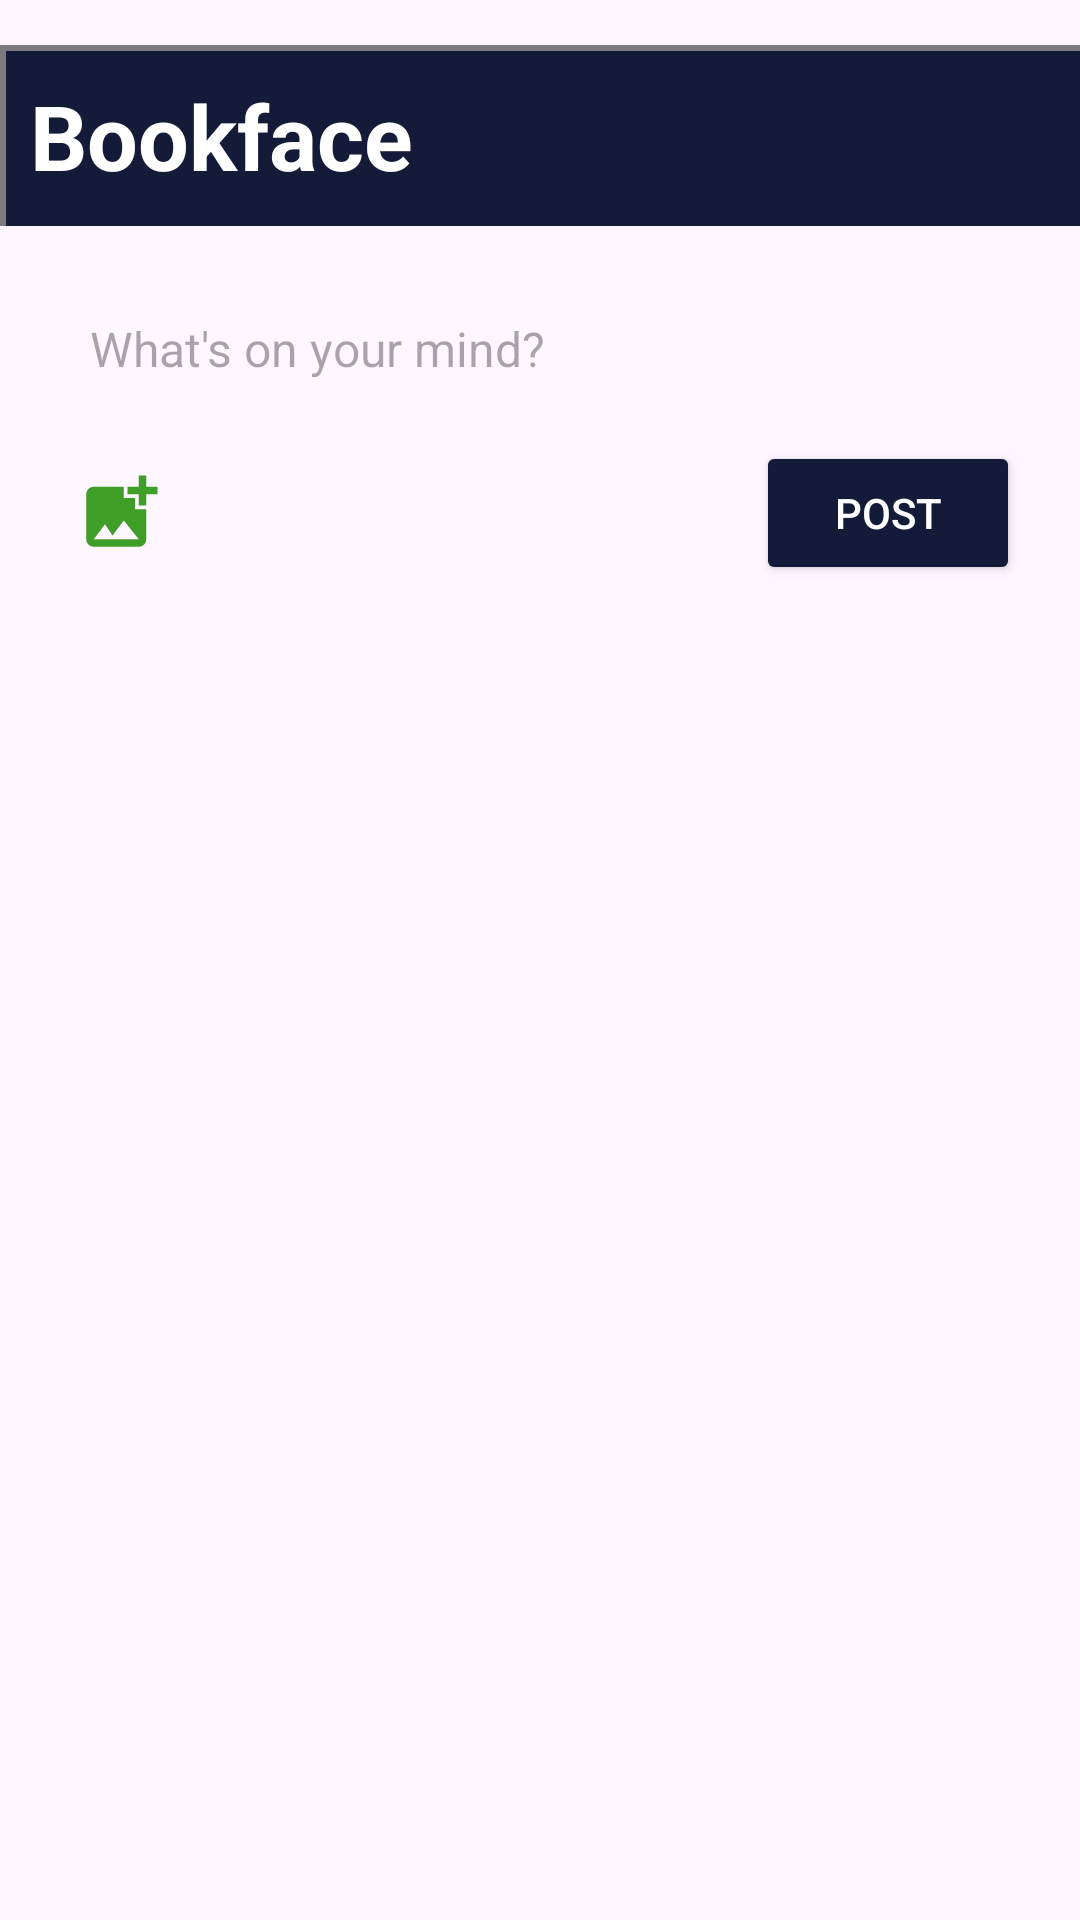

Icons on this 1080×1920 Android screen, each with its box as (x1, y1, x2, y2):
add photo alternate: (86, 475, 158, 547)
